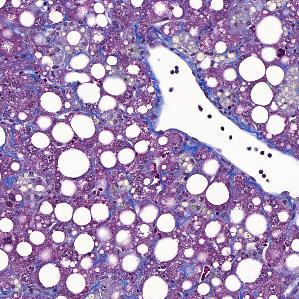fibrosis: (106, 22, 164, 59), (170, 139, 203, 174)
